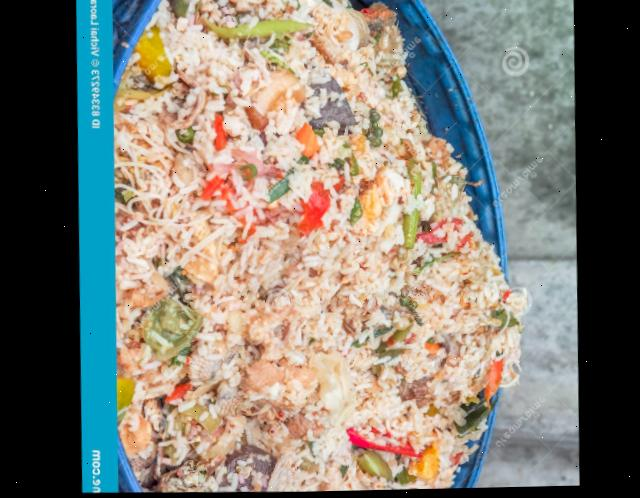Garbage: (111, 0, 530, 492)
